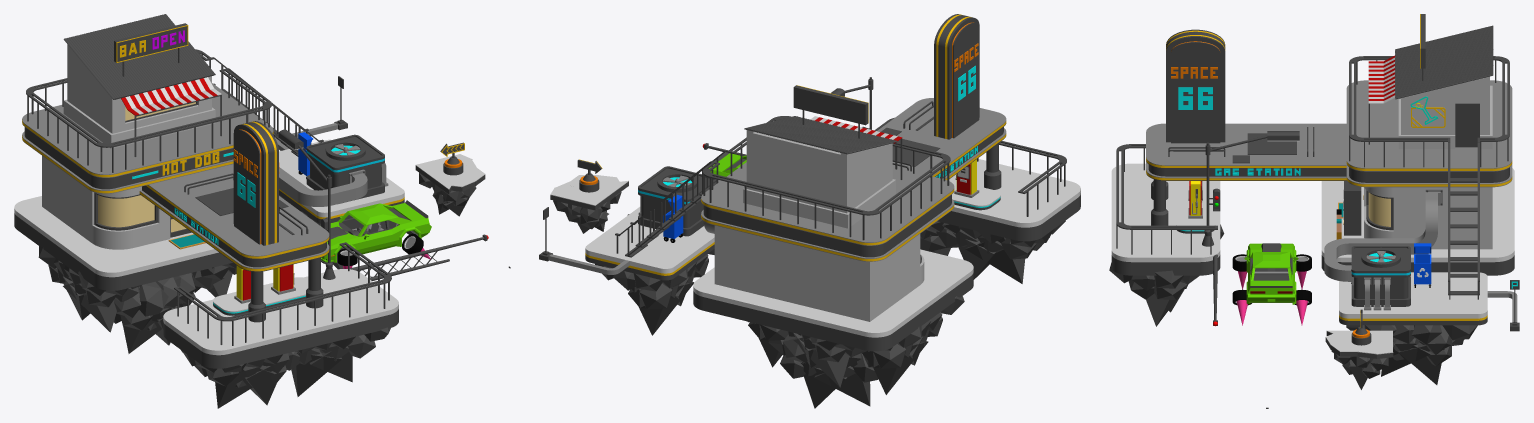
The model's file is Space refueling station.glb.
3 views of the same model, side by side, from view 1: azimuth 30°, elevation 25°; view 2: azimuth 150°, elevation 25°; view 3: azimuth 270°, elevation 25° (orthographic). The views are drawn at different scales.
Visible parts, largest first — view 1: box (×38), pyramid4 (×6), quarterAnnulus (×3), icosahedron, truncatedCone, annulus, wedge; view 2: box (×29), pyramid4 (×7), icosahedron (×2), wedge; view 3: box (×36), icosahedron (×4), pyramid4 (×3), quarterAnnulus (×3), wedge, halfCylinder (×2), annulus, cylinder.
Part boxes in pixels (x1,y1,x2,y2): box (×38): [17, 23, 402, 367]; pyramid4 (×6): [63, 283, 352, 408]; quarterAnnulus (×3): [92, 188, 331, 249]; icosahedron: [139, 281, 168, 316]; truncatedCone: [349, 237, 484, 271]; annulus: [325, 140, 365, 160]; wedge: [67, 44, 108, 94]; box (×29): [552, 26, 1078, 349]; pyramid4 (×7): [639, 232, 1025, 408]; icosahedron (×2): [639, 283, 905, 368]; wedge: [840, 143, 892, 176]; box (×36): [1111, 52, 1514, 351]; icosahedron (×4): [1154, 270, 1477, 354]; pyramid4 (×3): [1146, 284, 1444, 384]; quarterAnnulus (×3): [1324, 192, 1437, 281]; wedge: [1398, 76, 1489, 98]; halfCylinder (×2): [1166, 36, 1225, 53]; annulus: [1361, 247, 1400, 267]; cylinder: [1153, 179, 1165, 211].
Bounding box in the file's own units: 184 × 139 × 166.
